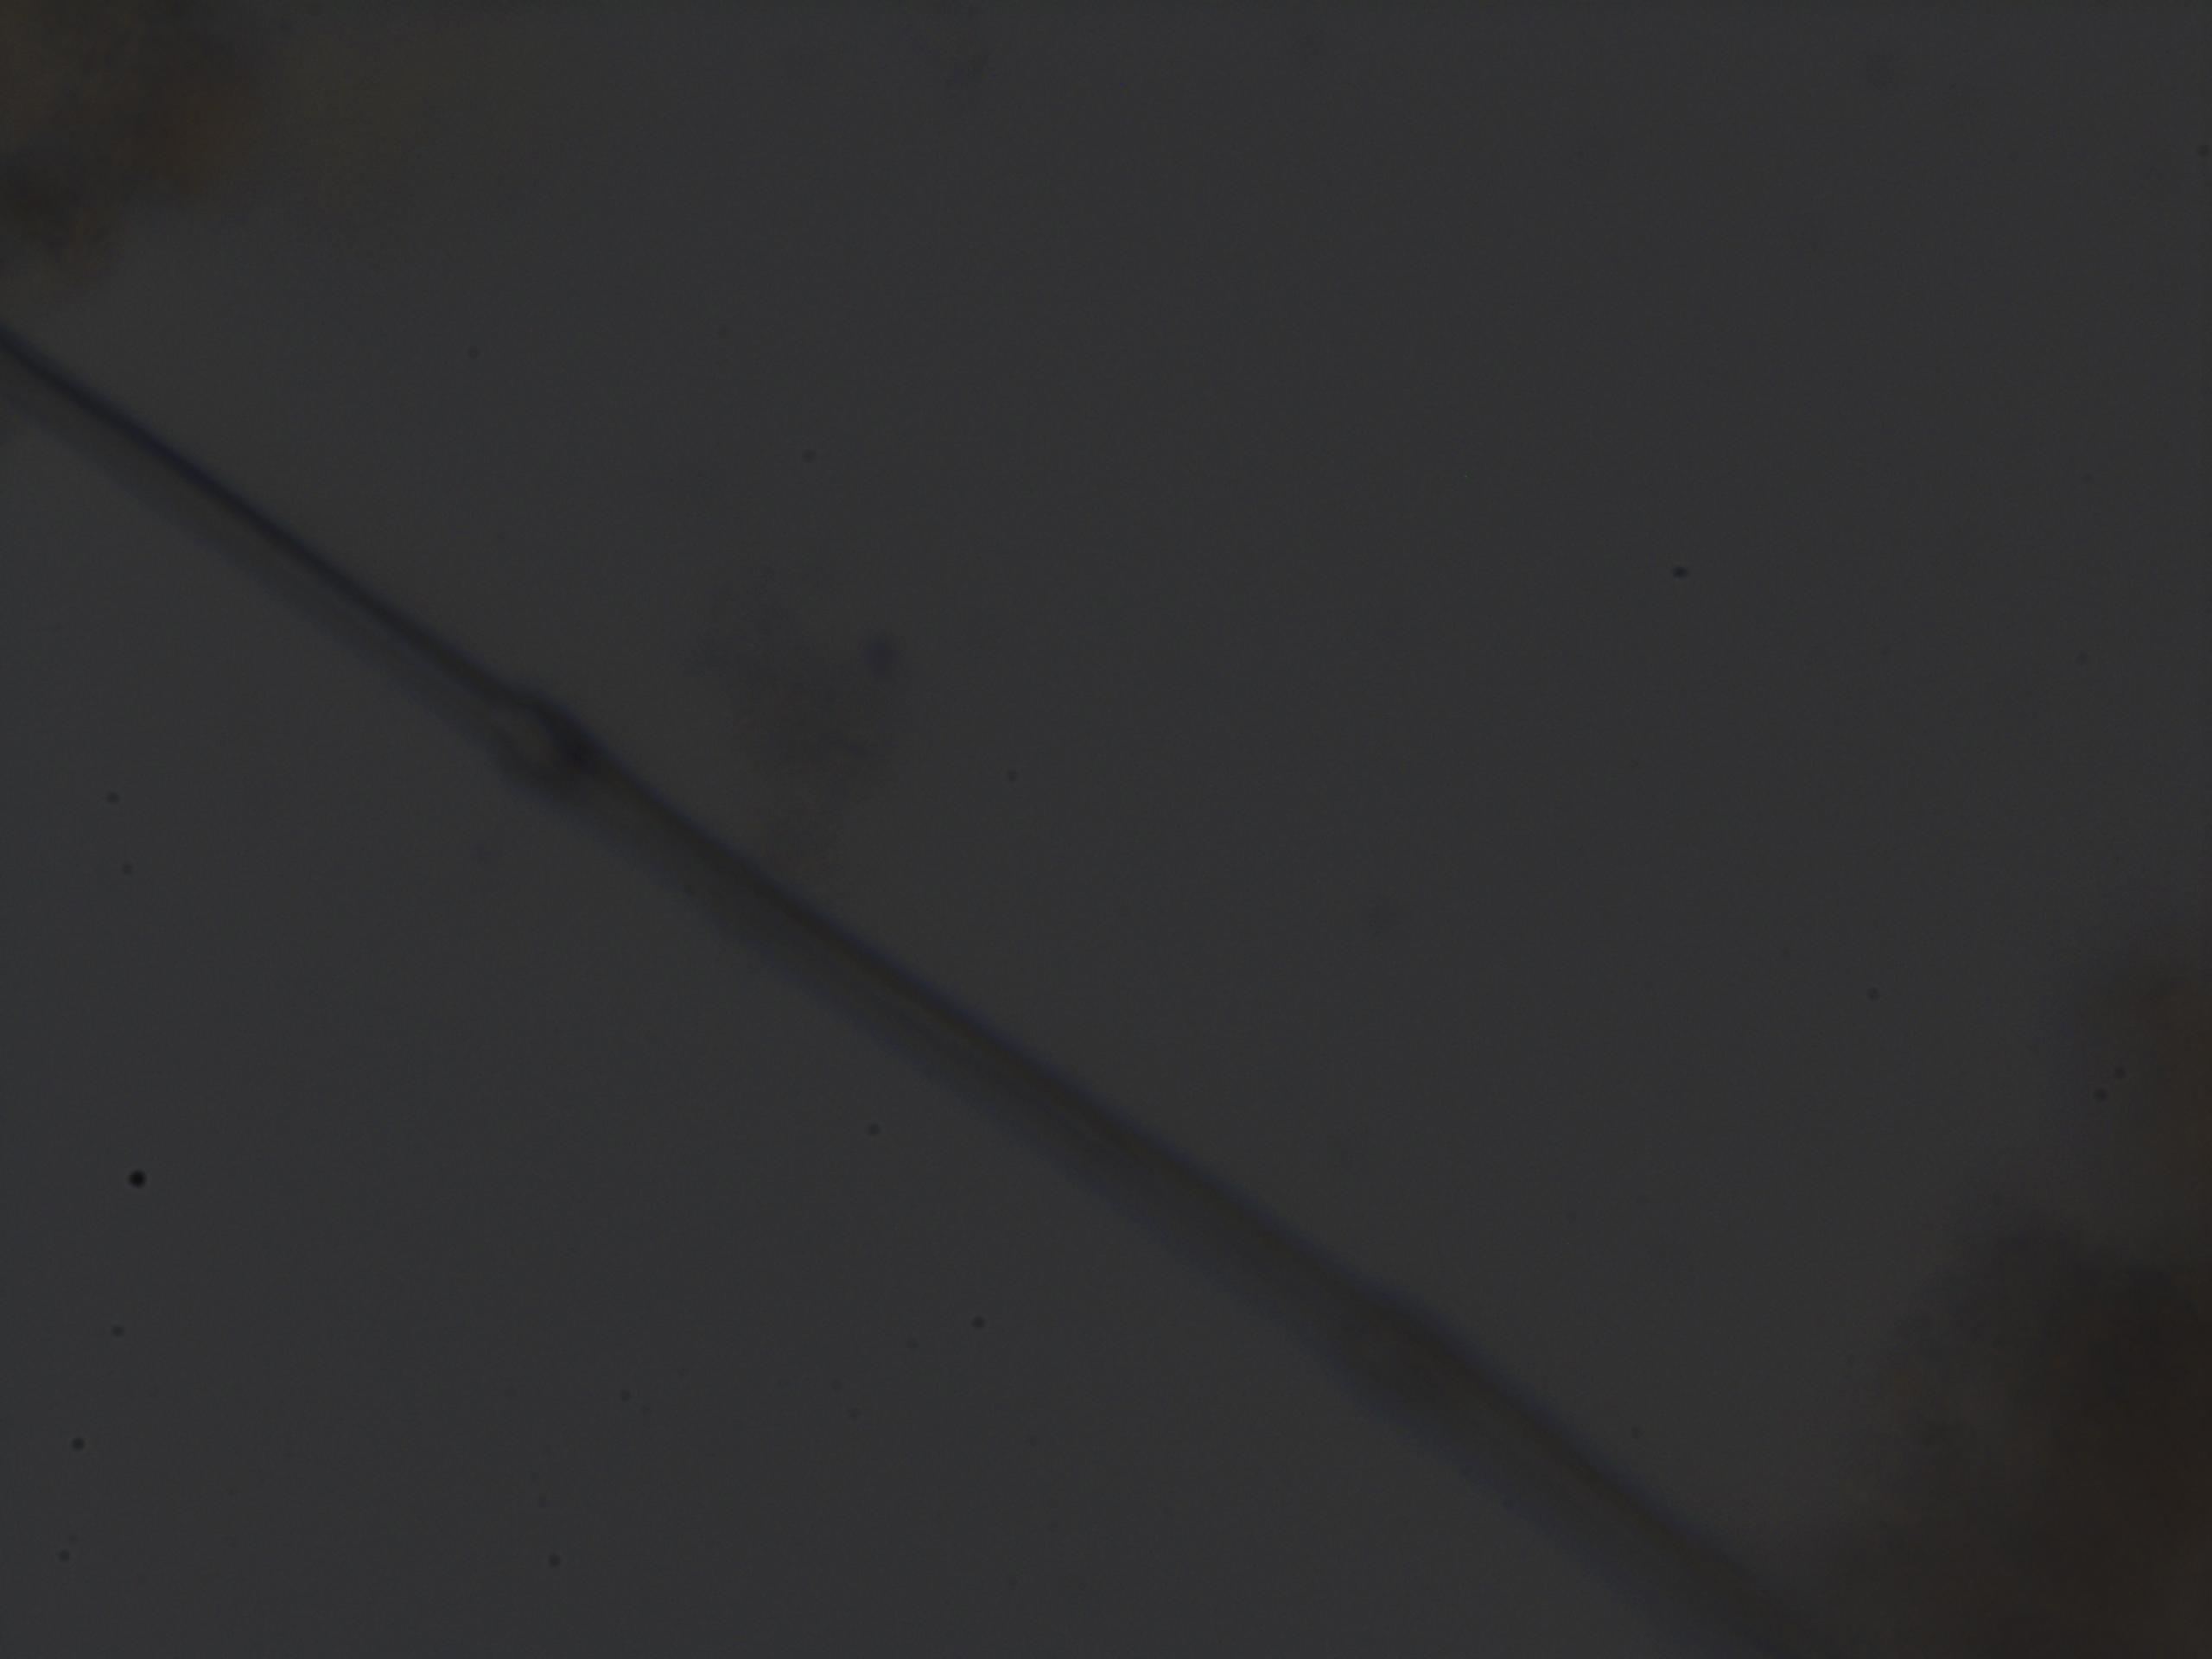filament: (0, 289, 1770, 1659)
